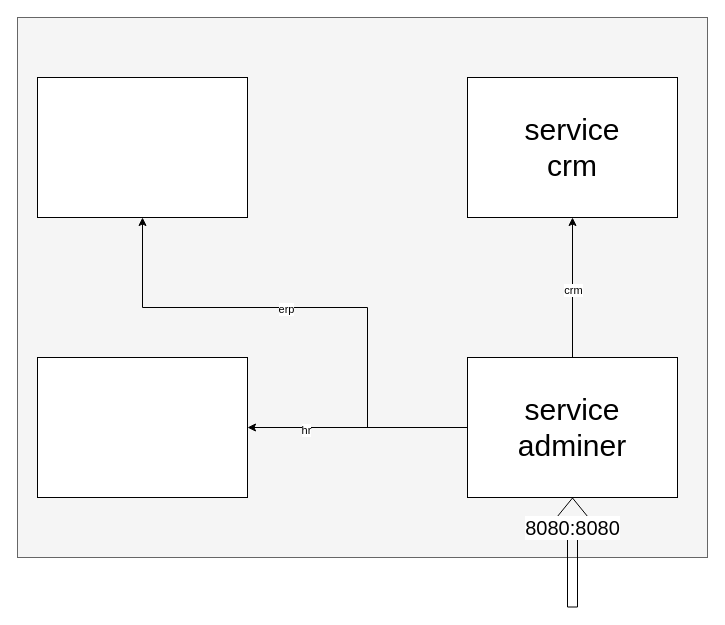
Some shapes in this 725 by 625 pixel diagram are drawn without their labels. Here are the shapes that lost their labels. From the top down, the centre of each, then its label:
[142,147]: service erp
[142,427]: service hr
